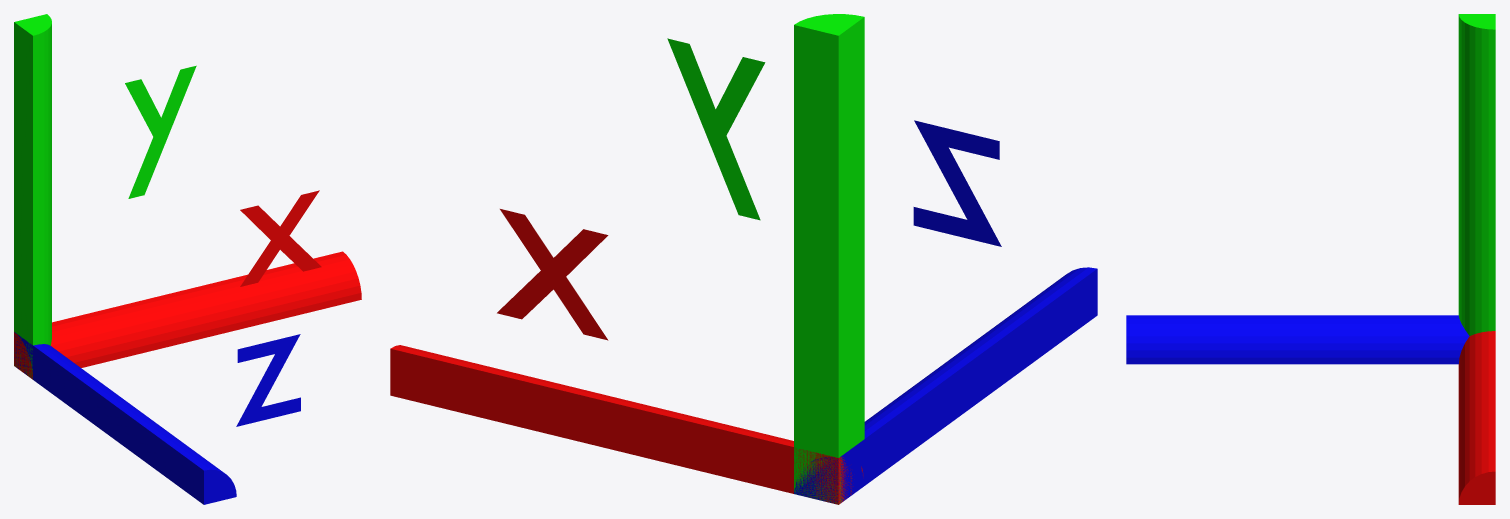
The model's file is content.glb.
The picture shows the model from 3 angles, left to right: view 1: azimuth 30°, elevation 25°; view 2: azimuth 150°, elevation 25°; view 3: azimuth 270°, elevation 25°; orthographic projection. The views are drawn at different scales.
Size of the model in its own units: 1 by 1 by 1.
